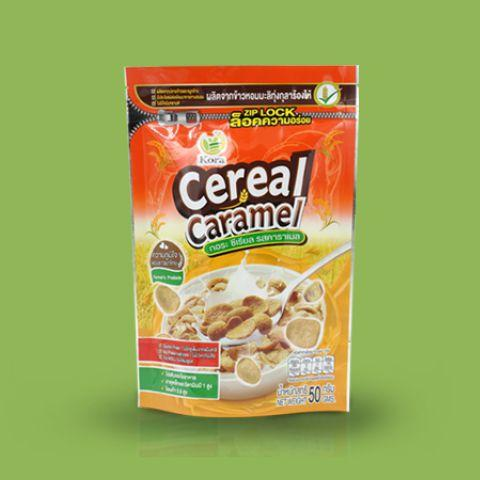plastic: (116, 61, 363, 424)
